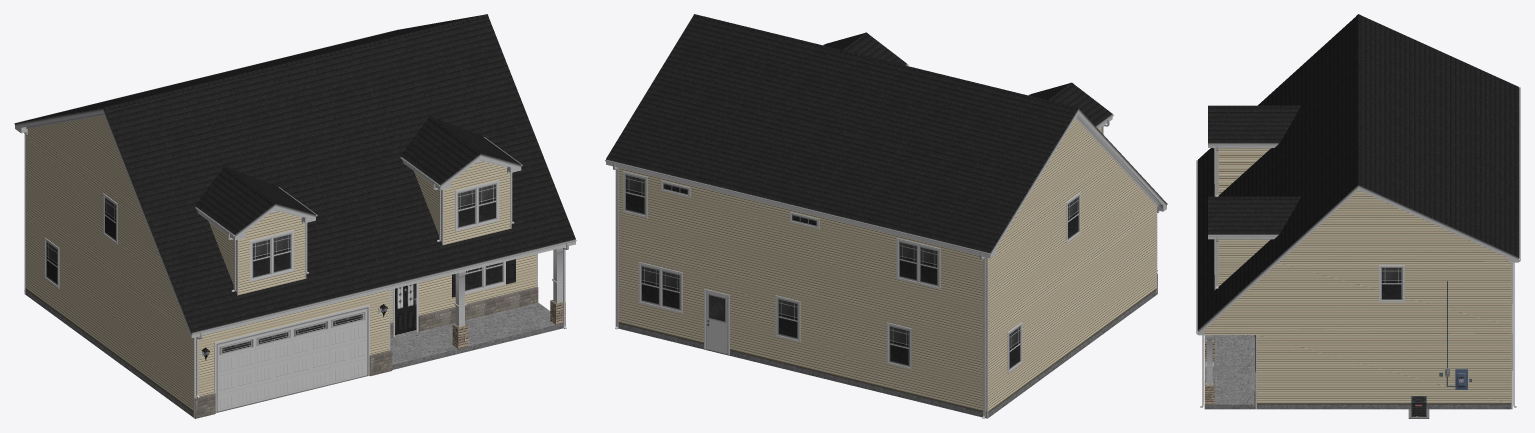
Rendered from house19_mirror2.fbx.
3 renders of one model, left to right at view 1: azimuth 30°, elevation 25°; view 2: azimuth 150°, elevation 25°; view 3: azimuth 270°, elevation 25°, orthographic. The views are drawn at different scales.
Visible parts, largest first — view 1: house19_mirror2_LOD0; view 2: house19_mirror2_LOD0; view 3: house19_mirror2_LOD0.
Part boxes in pixels (x1,y1,x2,y2): house19_mirror2_LOD0: (14, 14, 576, 418); house19_mirror2_LOD0: (605, 14, 1167, 418); house19_mirror2_LOD0: (1196, 14, 1520, 418).
Size of what is drawn, in the model's own units: 4.09 by 2.45 by 3.16.
